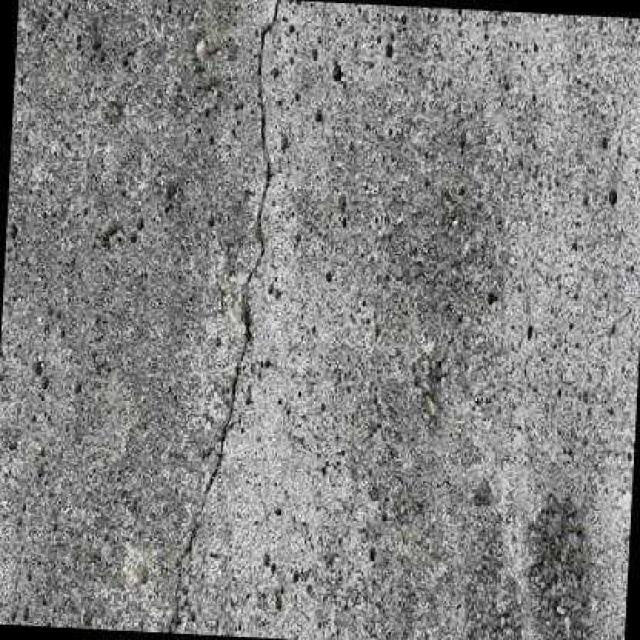D00: (166, 0, 277, 633)
